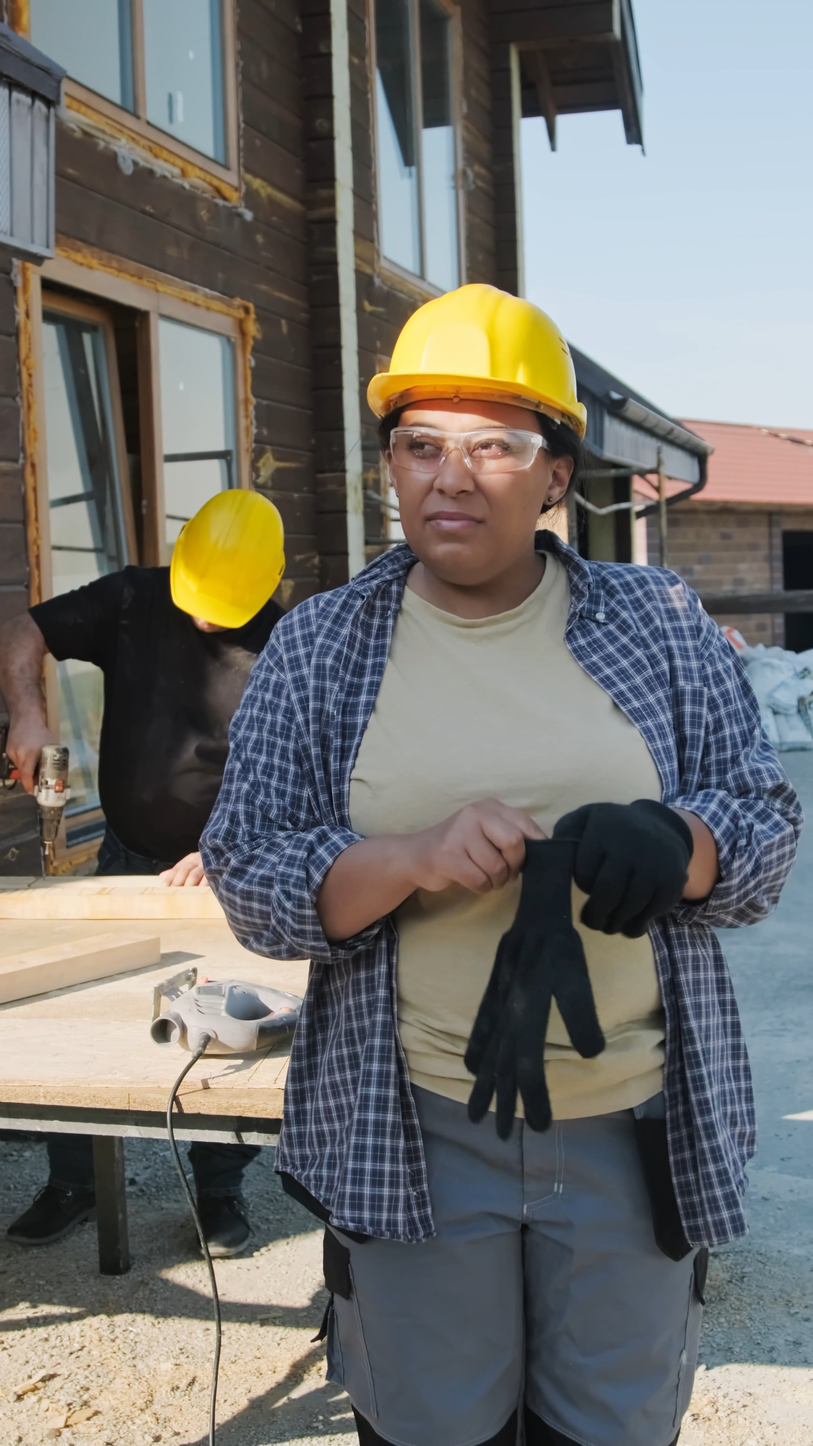No-gloves: (397, 781, 533, 914)
gloves: (558, 797, 694, 968)
